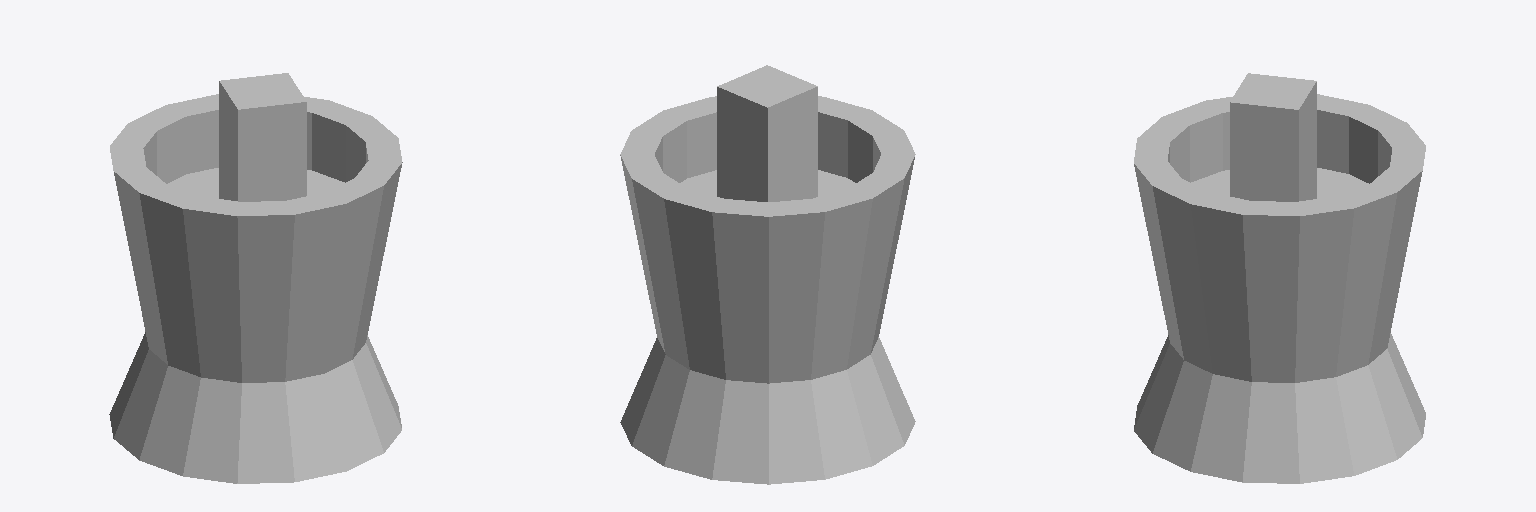
Rendered from cactus_grande_01_000001.obj.
3 views of the same model, side by side, from view 1: azimuth 30°, elevation 25°; view 2: azimuth 150°, elevation 25°; view 3: azimuth 270°, elevation 25° (orthographic).
Visible parts, largest first — view 1: Cylinder, NurbsPath.001; view 2: Cylinder, NurbsPath.001; view 3: Cylinder, NurbsPath.001.
Part boxes in pixels (bbox=[...]): Cylinder: bbox=[109, 94, 402, 483]; NurbsPath.001: bbox=[219, 73, 306, 201]; Cylinder: bbox=[620, 96, 915, 484]; NurbsPath.001: bbox=[717, 65, 817, 201]; Cylinder: bbox=[1134, 94, 1425, 483]; NurbsPath.001: bbox=[1230, 73, 1316, 201].
Bounding box in the file's own units: 1.29 × 1.61 × 1.29.